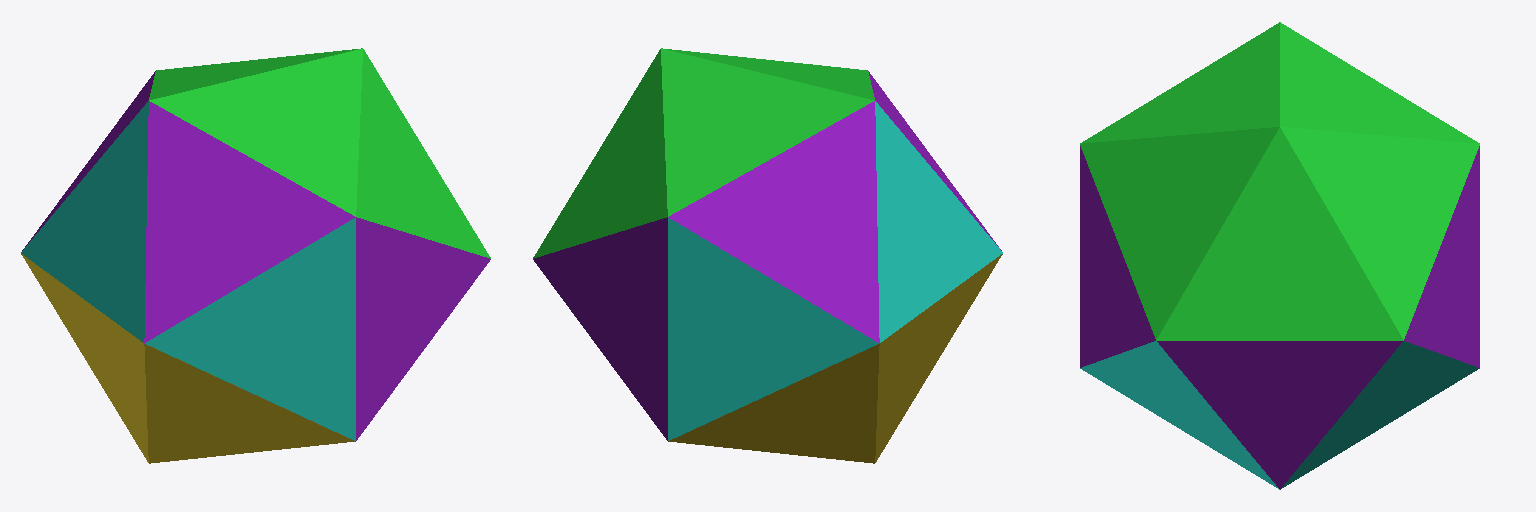
File: platonic.obj
3 views of the same model, side by side, from view 1: azimuth 30°, elevation 25°; view 2: azimuth 150°, elevation 25°; view 3: azimuth 270°, elevation 25° (orthographic).
Visible parts, largest first — view 1: Platonic; view 2: Platonic; view 3: Platonic.
Part boxes in pixels (x1,y1,x2,y2): Platonic: (21, 48, 490, 463); Platonic: (533, 48, 1002, 463); Platonic: (1080, 22, 1479, 489).
Bounding box in the file's own units: 1.7 × 1.7 × 1.7.